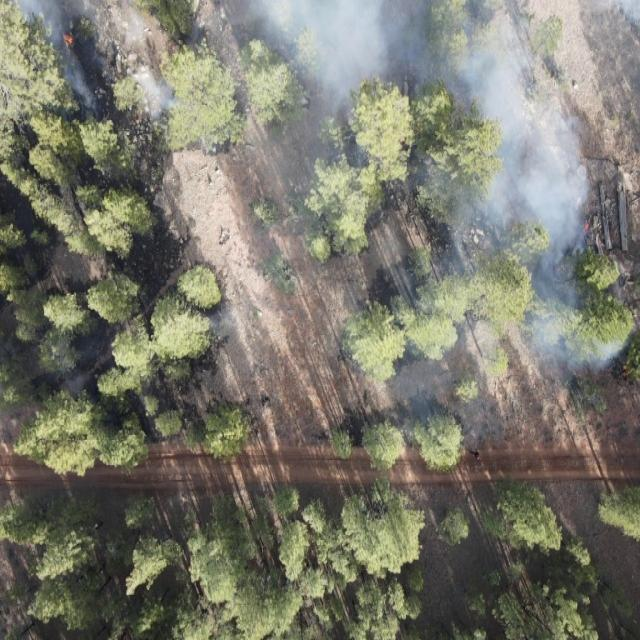fire: (60, 31, 74, 48), (581, 220, 592, 236)
smoke: (0, 0, 640, 128), (248, 129, 600, 265), (330, 265, 624, 380), (388, 379, 510, 452), (52, 344, 90, 397), (206, 309, 250, 342)
